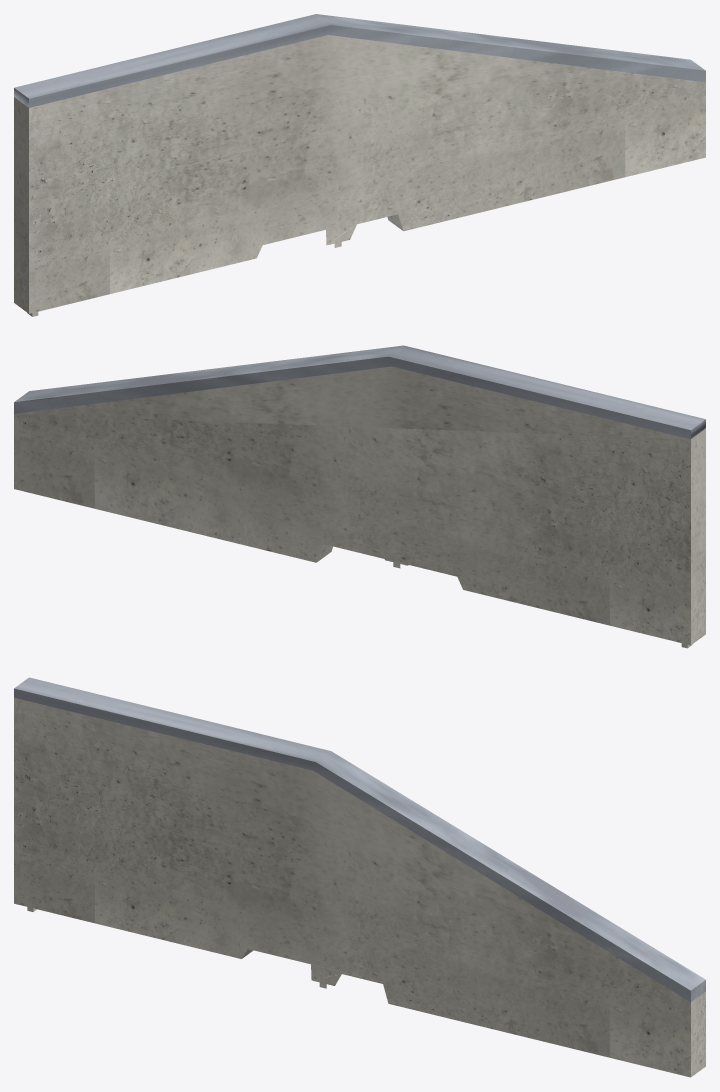
The model's file is railslide-98-38.gltf.
The picture shows the model from 3 angles, top to bottom: view 1: azimuth 30°, elevation 25°; view 2: azimuth 150°, elevation 25°; view 3: azimuth 330°, elevation 25°; orthographic projection.
Parts seen in each view (by area): view 1: SK0057_Railslide_-98-38.001; view 2: SK0057_Railslide_-98-38.001; view 3: SK0057_Railslide_-98-38.001.
Boxes of the visible parts, x1=… form: SK0057_Railslide_-98-38.001: x1=14, y1=14, x2=705, y2=316; SK0057_Railslide_-98-38.001: x1=14, y1=345, x2=705, y2=648; SK0057_Railslide_-98-38.001: x1=14, y1=677, x2=705, y2=1077.
Size of the model in its own units: 3.1 by 0.98 by 0.12.
Materials: 2 (2 with a texture image).
